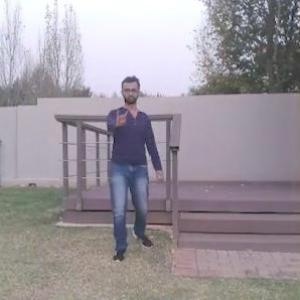takeoff-hand: (111, 100, 131, 132)
